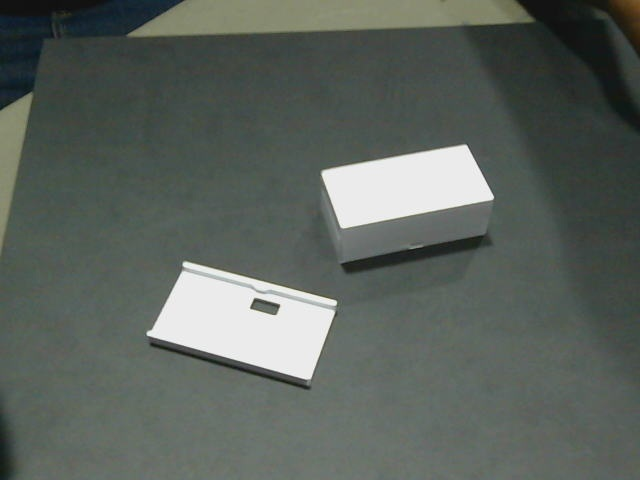enclosure_defective: (148, 262, 336, 379), (322, 145, 493, 228)
